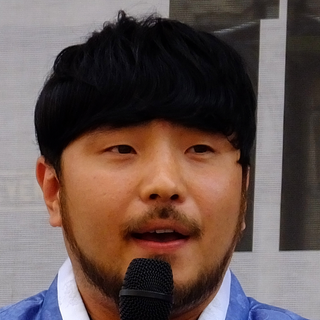eye: (95, 140, 144, 165), (181, 138, 225, 164)
